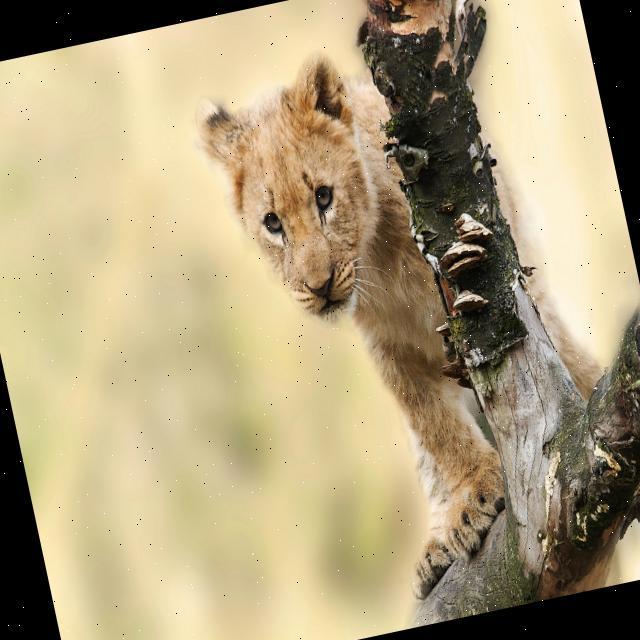Lion: (185, 7, 638, 626)
